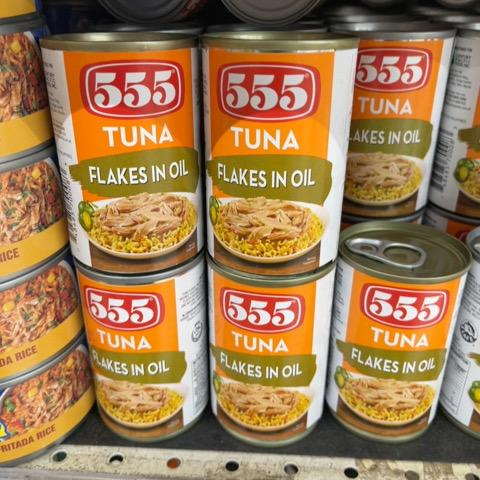canned-goods: (38, 30, 204, 283), (198, 31, 362, 276), (327, 214, 468, 445), (71, 251, 209, 448), (204, 257, 337, 451), (338, 24, 458, 221)
